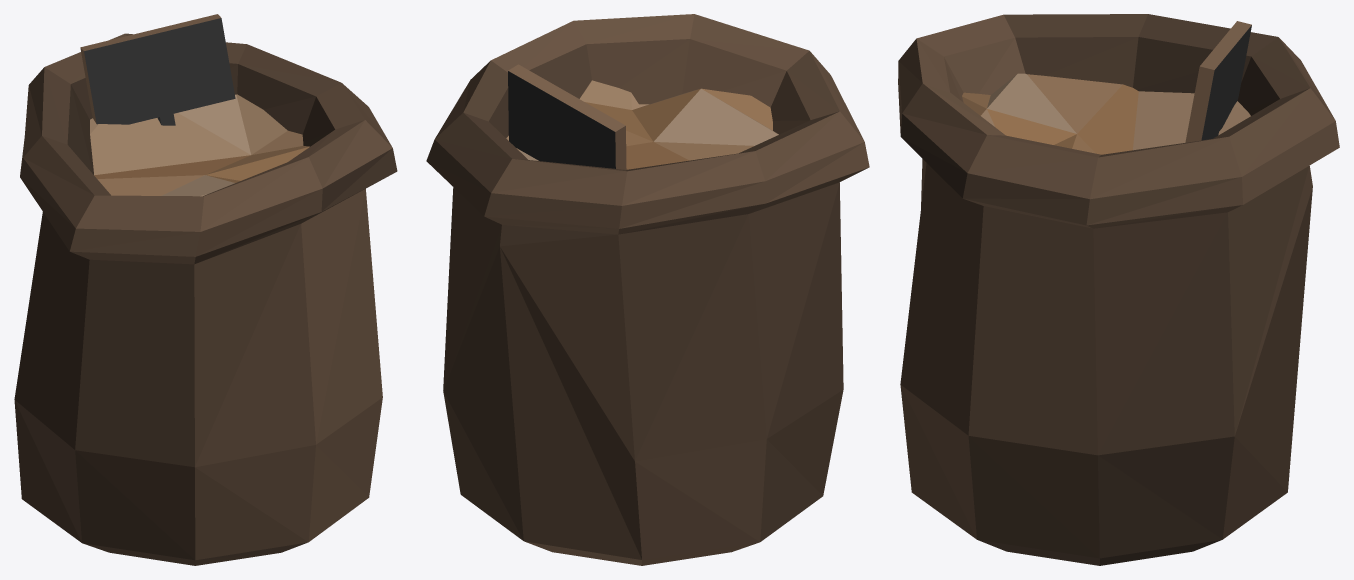
The model's file is Prop_GrainBagA.fbx.
3 renders of one model, left to right at view 1: azimuth 30°, elevation 25°; view 2: azimuth 150°, elevation 25°; view 3: azimuth 270°, elevation 25°, orthographic. The views are drawn at different scales.
Parts seen in each view (by area): view 1: Prop_GrainBagA; view 2: Prop_GrainBagA; view 3: Prop_GrainBagA.
Boxes of the visible parts, <box> form: Prop_GrainBagA: <box>14,14,397,565</box>; Prop_GrainBagA: <box>426,14,869,565</box>; Prop_GrainBagA: <box>898,14,1339,565</box>.
Size of the model in its own units: 55.34 by 67.32 by 56.57.
